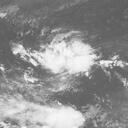cyclone: (33, 32, 97, 78)
